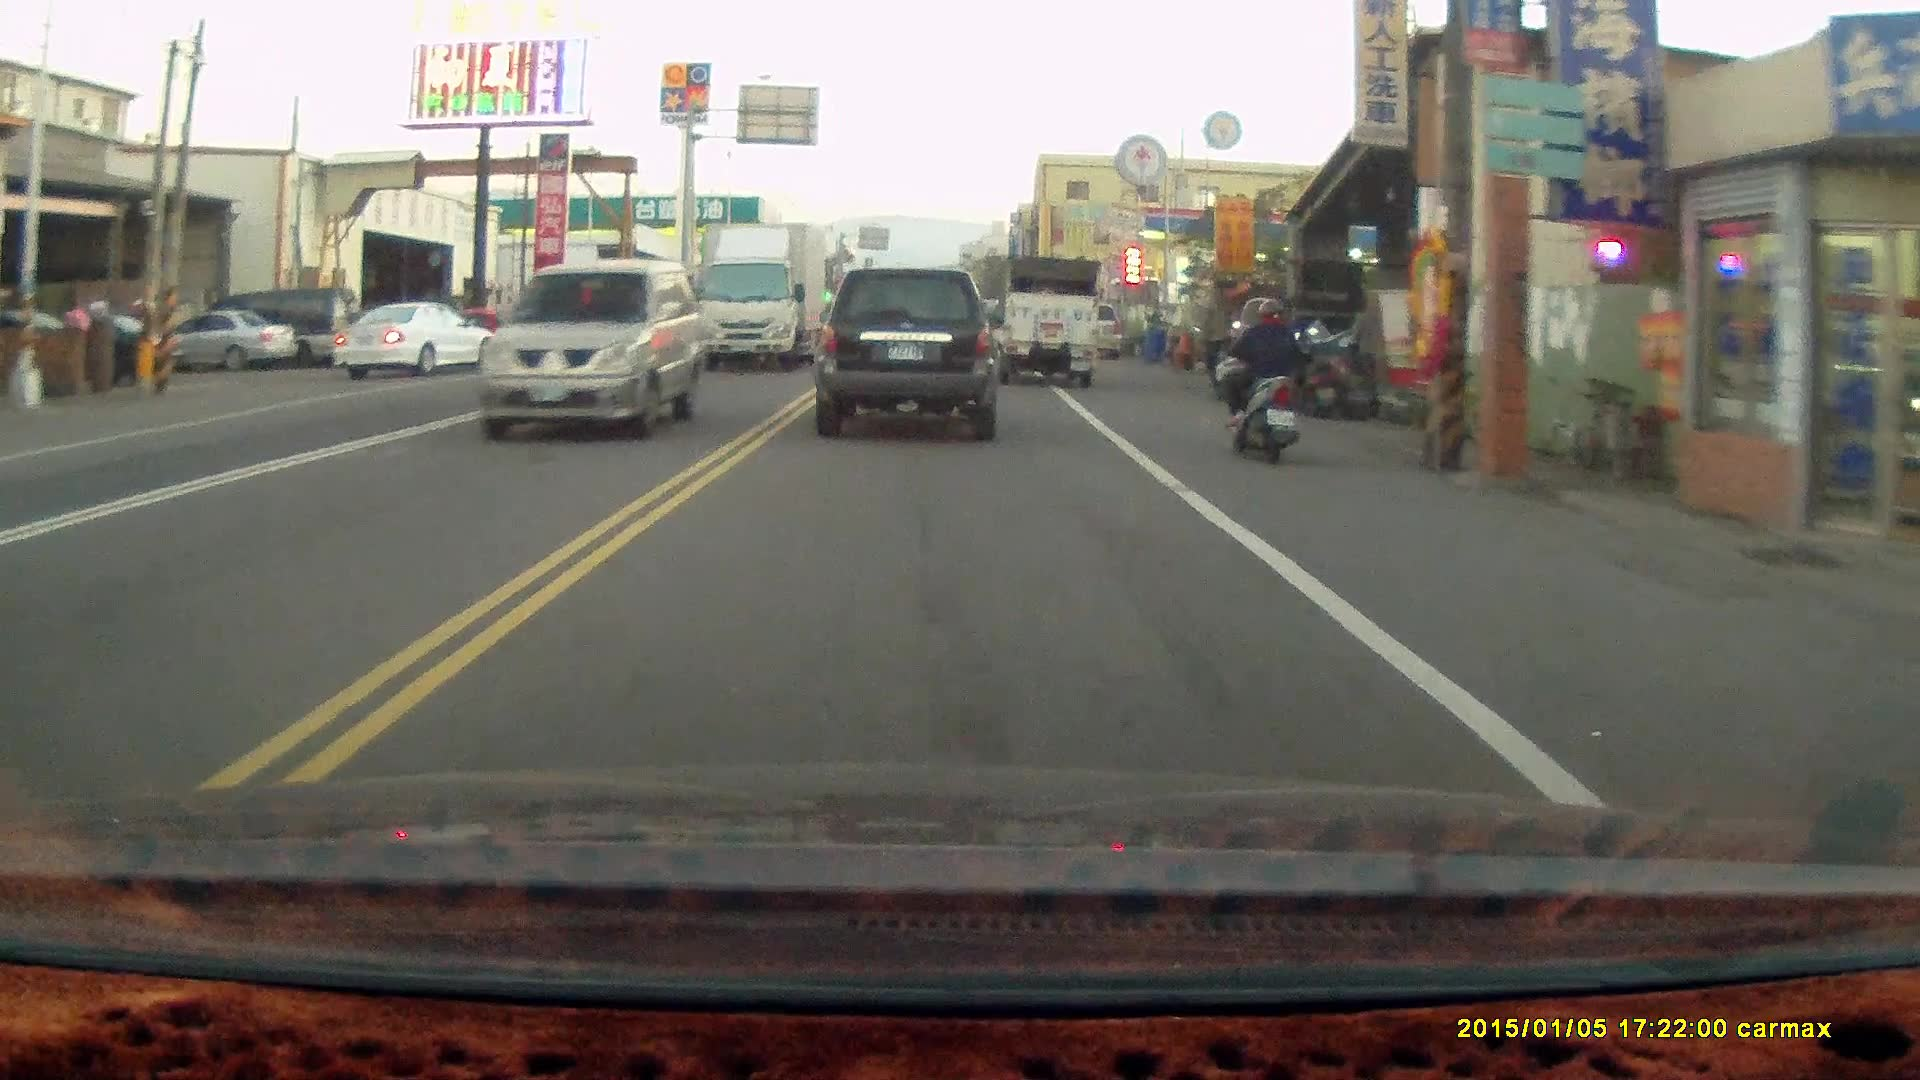pedestrian: (1348, 296, 1388, 410)
rider: (1209, 296, 1303, 467)
vehicle: (484, 261, 699, 442), (818, 260, 1000, 437), (698, 225, 825, 377), (992, 250, 1100, 386), (332, 297, 499, 383), (168, 307, 300, 377)
